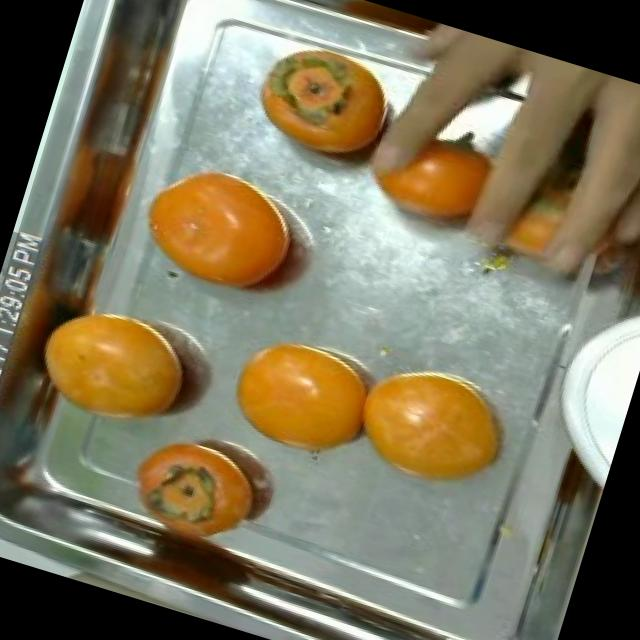Fruit: (113, 137, 333, 322), (8, 272, 215, 456), (336, 342, 530, 510), (234, 29, 422, 188), (210, 320, 397, 479), (112, 410, 294, 554)
